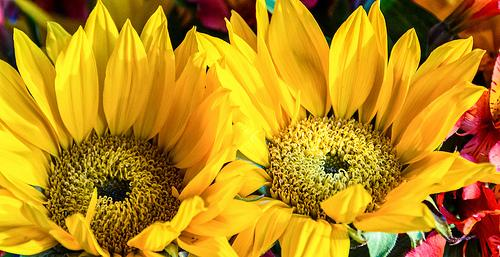sunflower: (203, 1, 493, 257), (0, 2, 239, 257)
